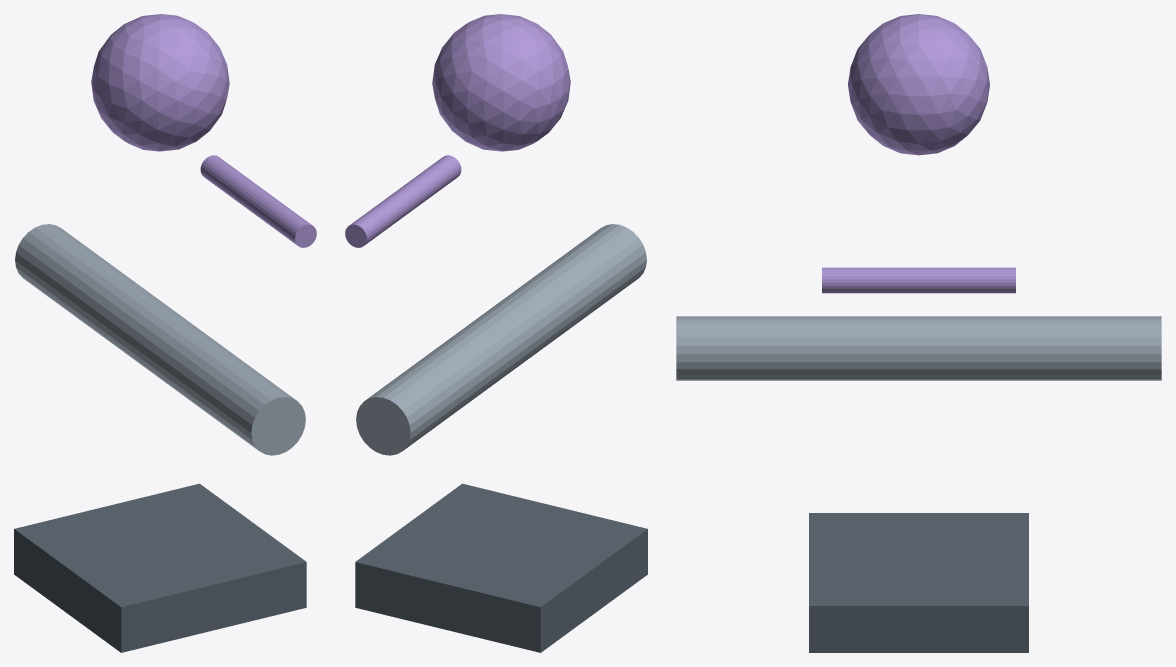
Rendered from quantum_transmitter.glb.
The picture shows the model from 3 angles, left to right: view 1: azimuth 30°, elevation 25°; view 2: azimuth 150°, elevation 25°; view 3: azimuth 270°, elevation 25°; orthographic projection. The views are drawn at different scales.
Visible parts, largest first — view 1: geometry_3, geometry_0, geometry_1, geometry_2; view 2: geometry_3, geometry_0, geometry_1, geometry_2; view 3: geometry_0, geometry_3, geometry_1, geometry_2.
Part boxes in pixels (x1,y1,x2,y2): geometry_3: (14,483,306,652); geometry_0: (15,224,305,455); geometry_1: (91,14,229,151); geometry_2: (200,155,316,247); geometry_3: (355,483,647,652); geometry_0: (356,224,646,455); geometry_1: (432,14,570,151); geometry_2: (345,155,461,247); geometry_0: (676,316,1161,380); geometry_3: (809,513,1028,652); geometry_1: (848,14,989,155); geometry_2: (822,267,1015,293).
Size of the model in its own units: 0.37 by 1 by 0.75.
